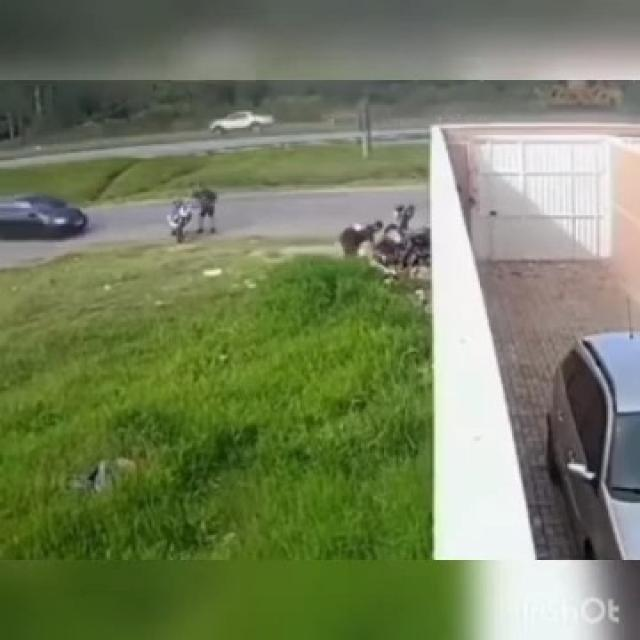accident: (374, 216, 438, 276)
